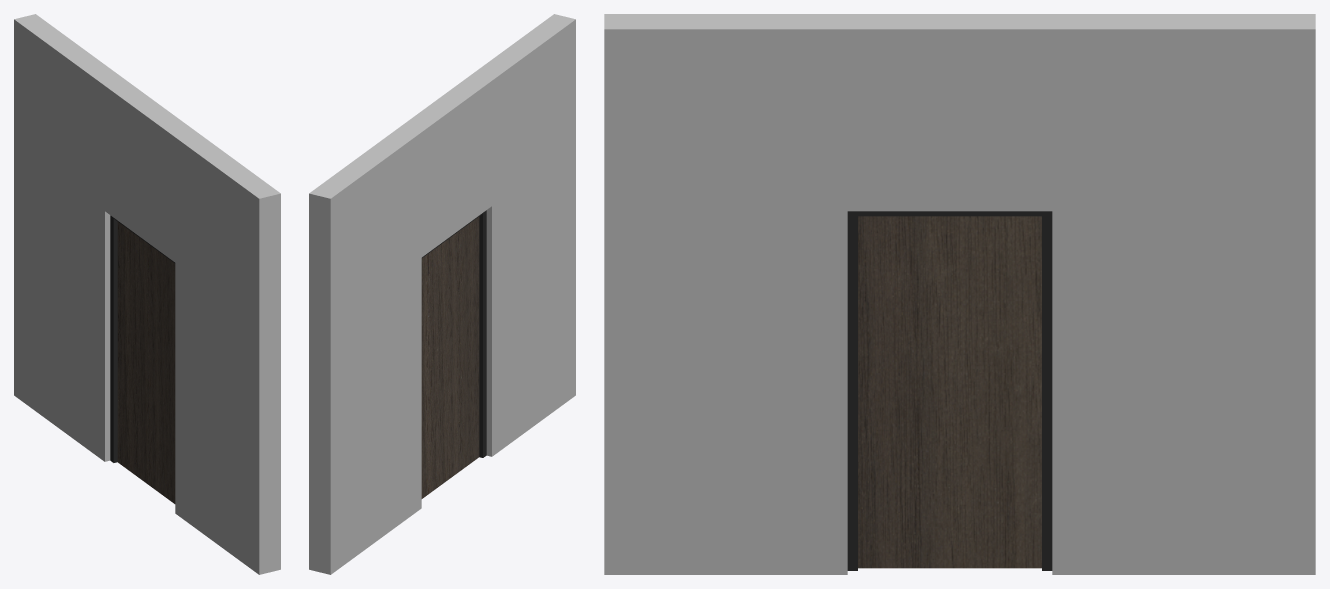
File: pared3.fbx
3 views of the same model, side by side, from view 1: azimuth 30°, elevation 25°; view 2: azimuth 150°, elevation 25°; view 3: azimuth 270°, elevation 25° (orthographic). The views are drawn at different scales.
Visible parts, largest first — view 1: pared3; view 2: pared3; view 3: pared3.
Boxes of the visible parts, x1,y1,x2,y2 form: pared3: (14,14,280,574); pared3: (309,14,575,574); pared3: (604,14,1315,574).
Size of the model in its own units: 20 by 331 by 391.
